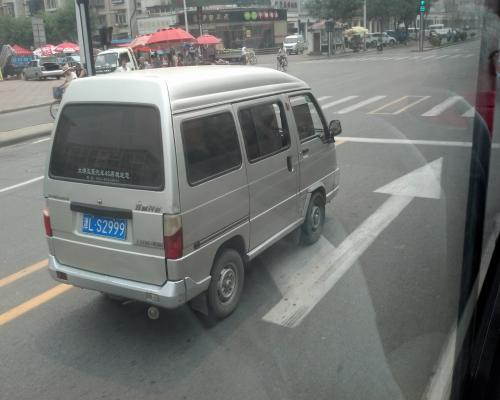Carplate: (79, 210, 130, 244)
